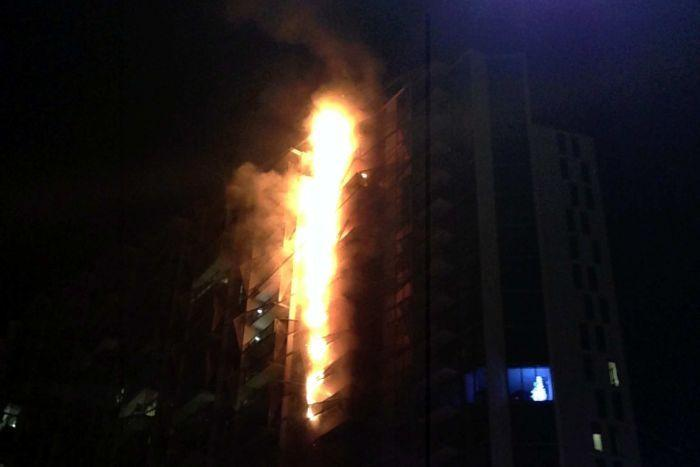Fire: (278, 74, 380, 443)
